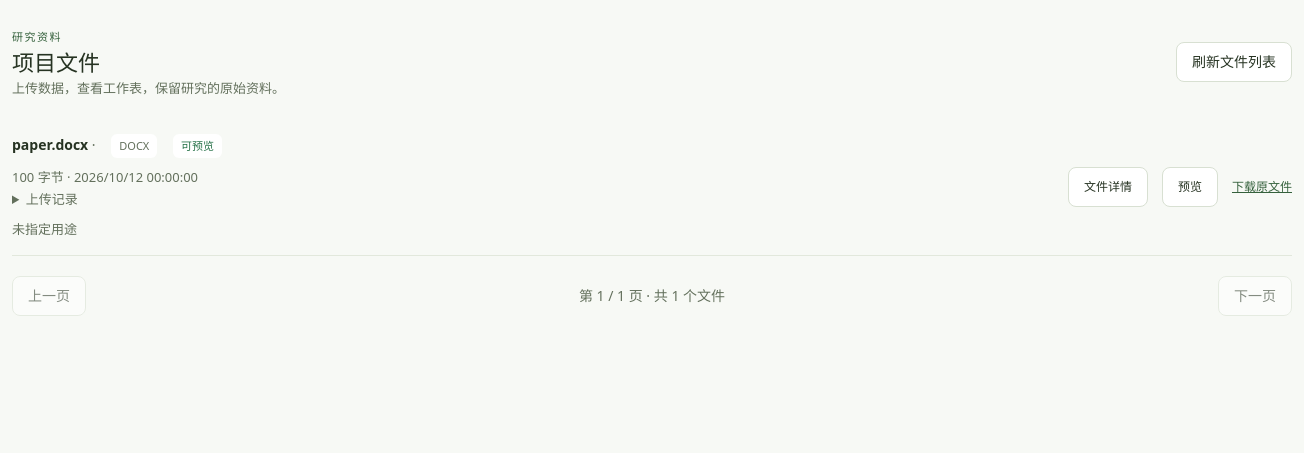
Test case: Word preview opens file details and never sends a WorkbookPreview request
Click the button with aria-label "预览 paper.docx".
click(1190, 187)  # box [1162,167,1218,207]
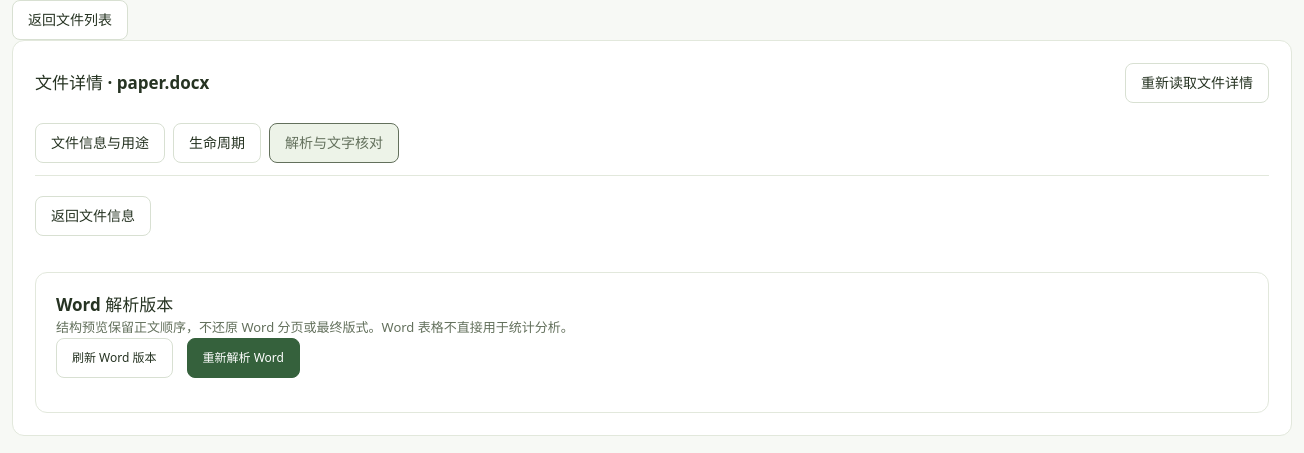
Expected: the heading "Word 解析版本" is shown, [56,293,173,316]
